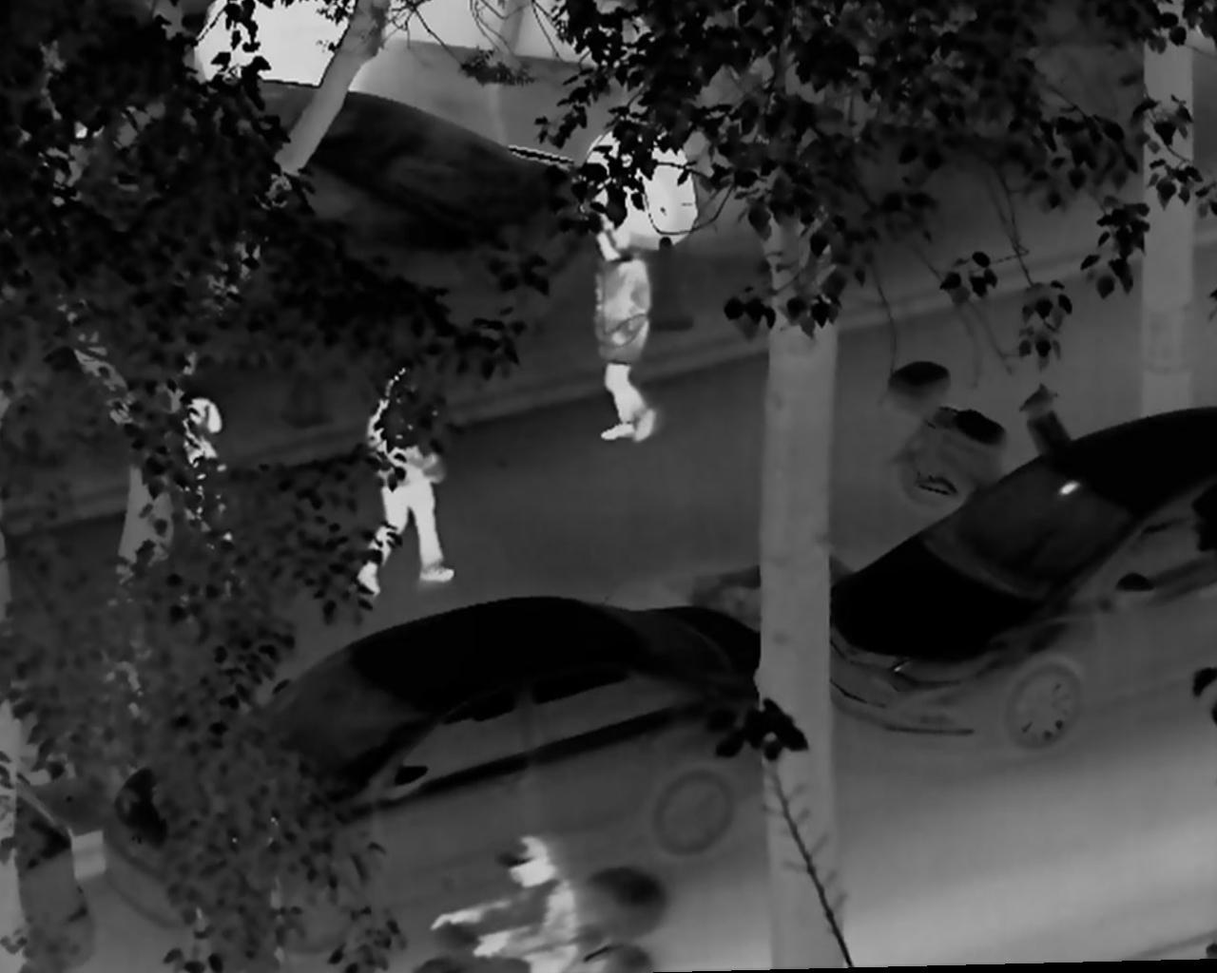person: (350, 365, 456, 602), (431, 836, 584, 973), (577, 220, 668, 448), (169, 398, 235, 605)
